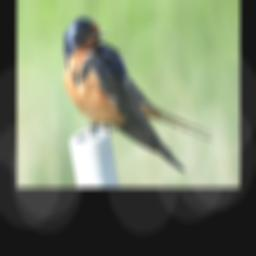Swallow: (61, 14, 214, 169)
